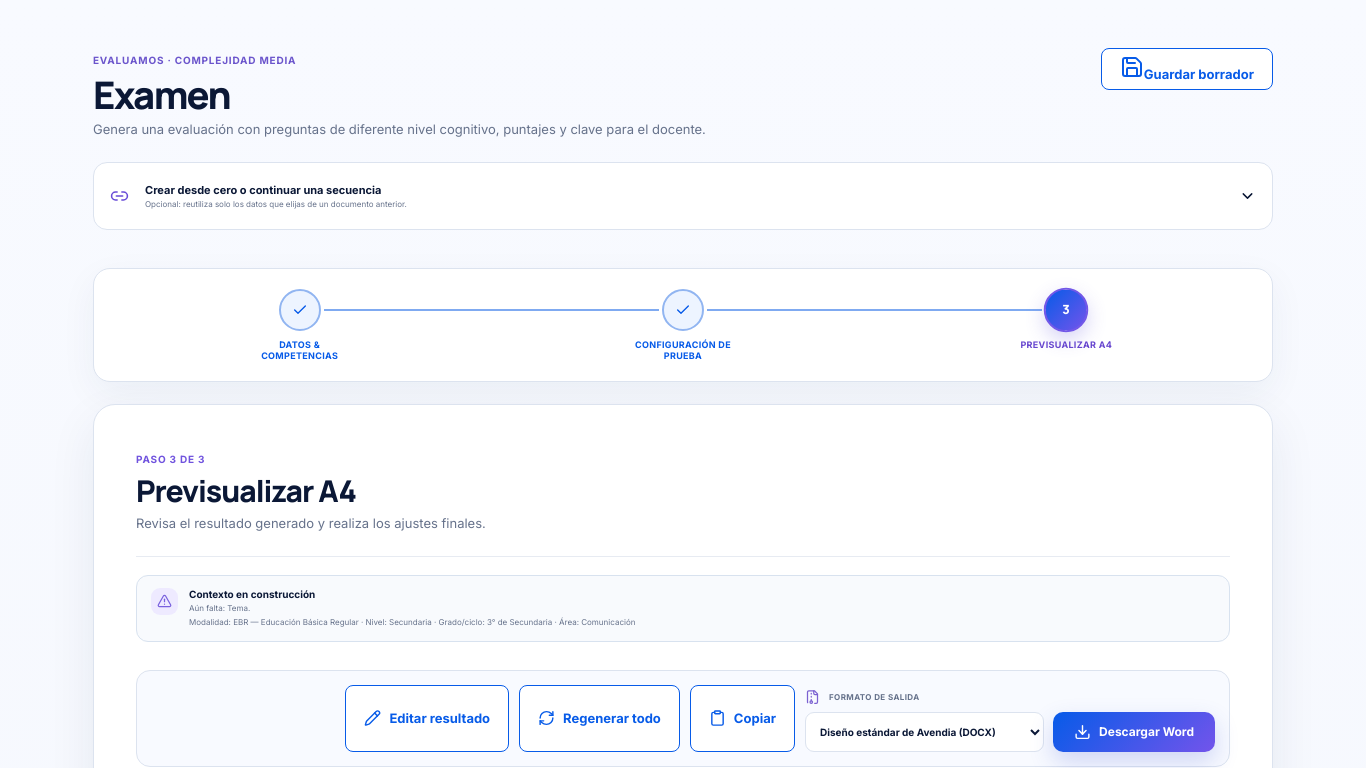
Scenario: WorkflowTool server history › reabre campos y artefacto desde backend aunque localStorage esté vacío
Click the button "Datos & competencias".
click(300, 325)  # box [108,289,491,361]
(page scrolled)
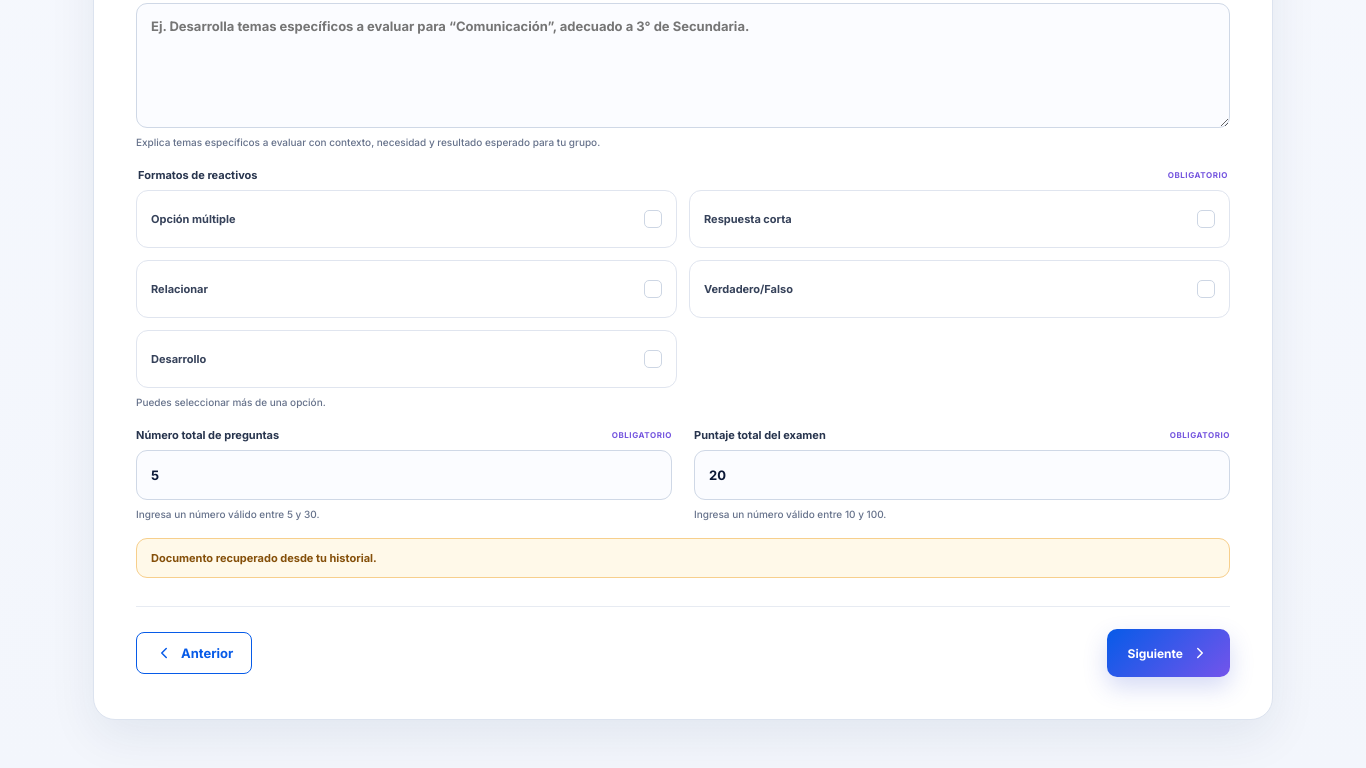
Now the number field showing "5" is shown, box [136,450,672,500]
Now the number field showing "20" is shown, box [694,450,1230,500]
